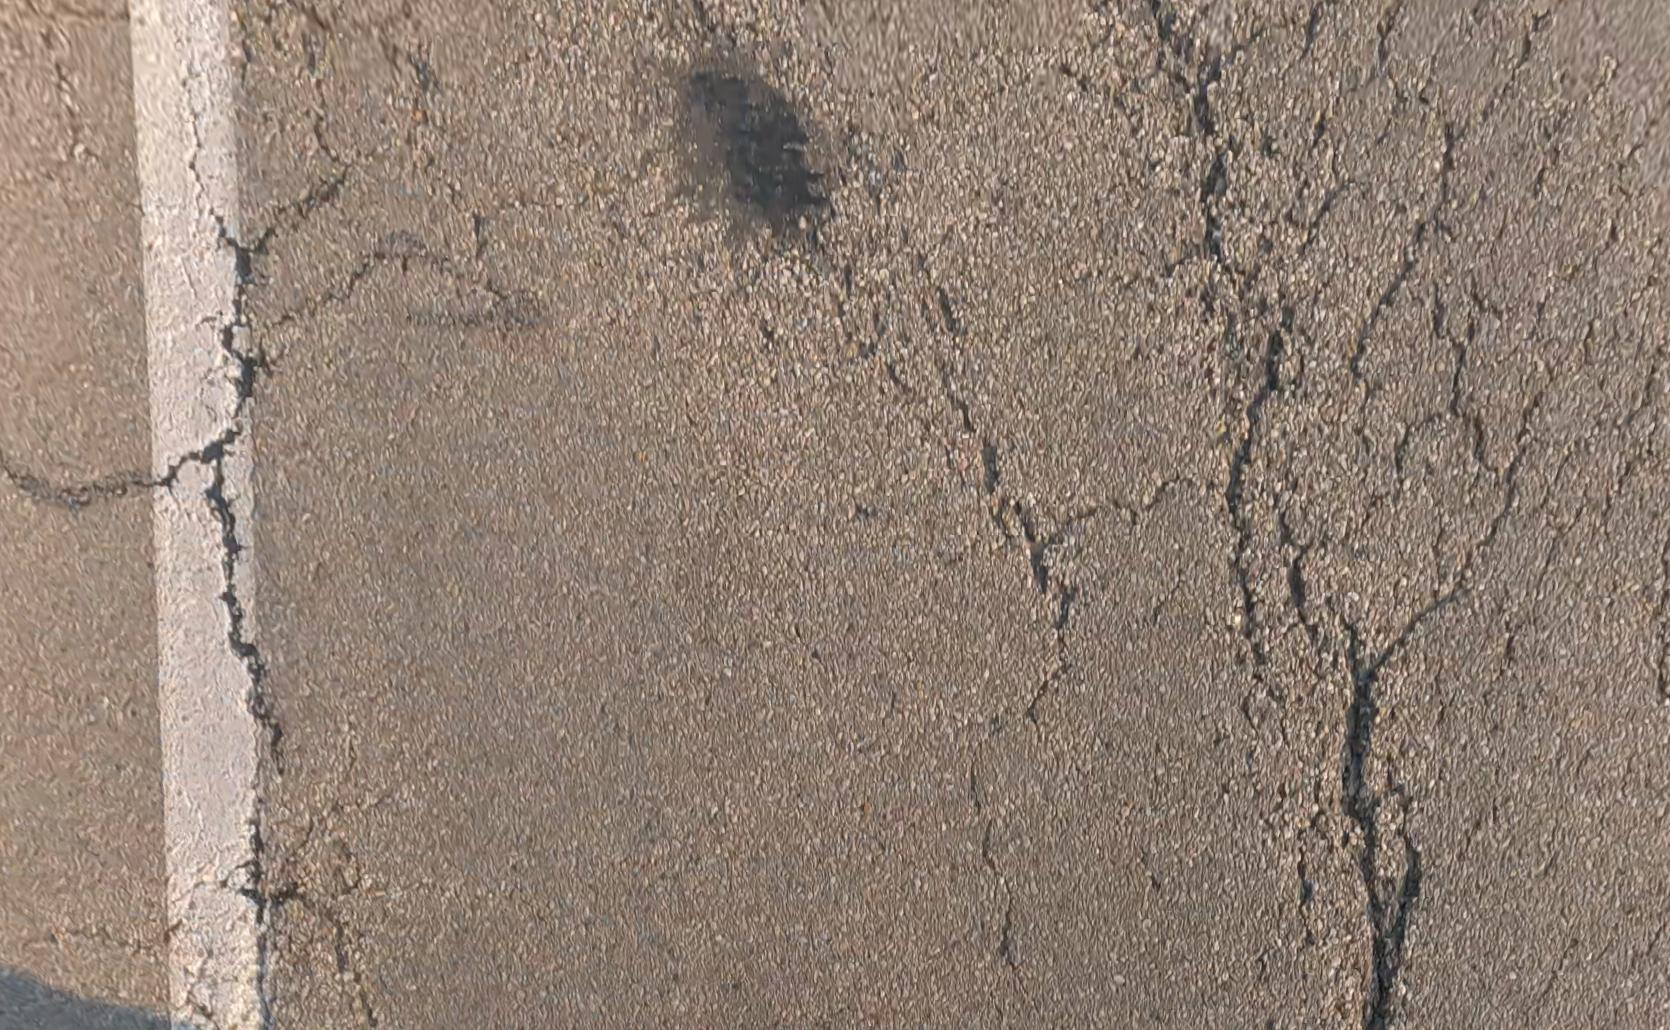pothole_patch_good: (658, 27, 823, 252)
